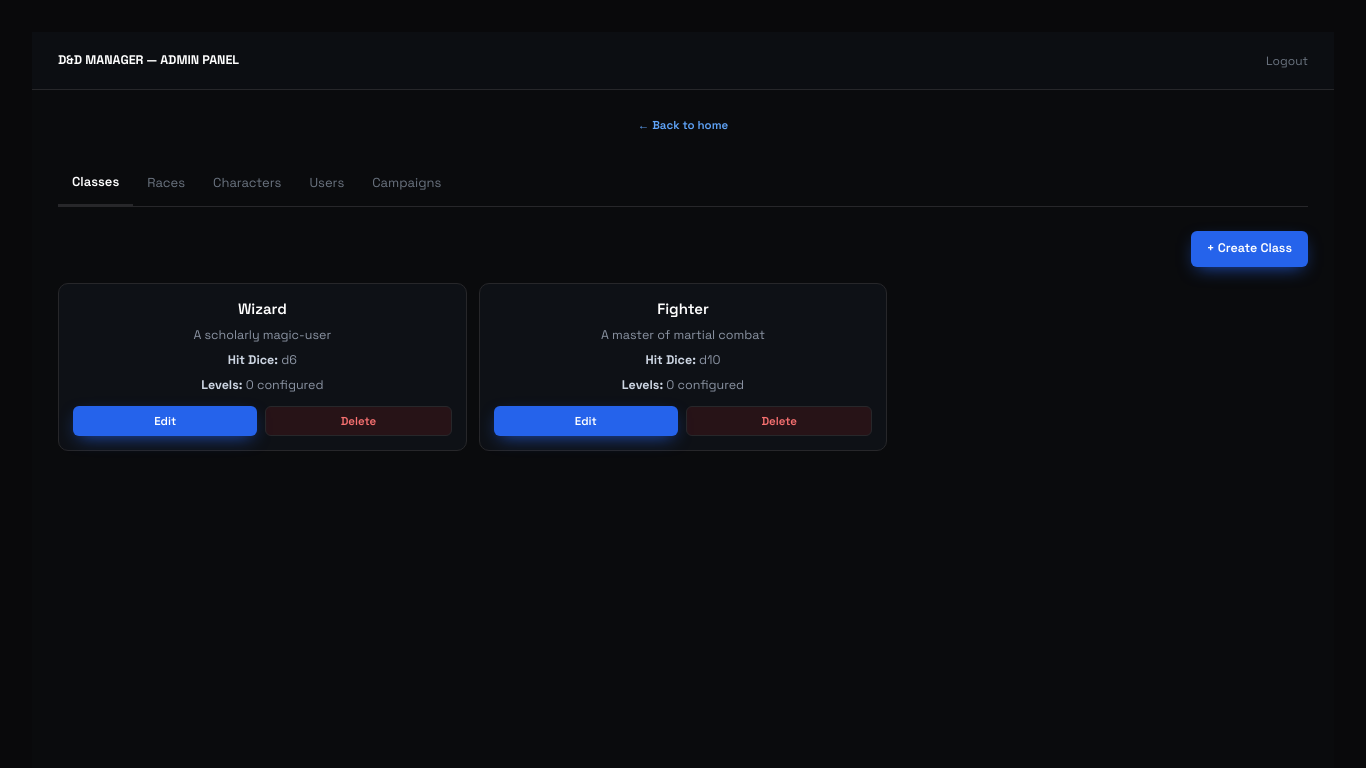
AdminPanel — Users CRUD › opens edit modal with prefilled username and email
This screenshot has width=1366, height=768.
Click the tab "Users" at {"x": 327, "y": 183}, box [295, 161, 358, 204]
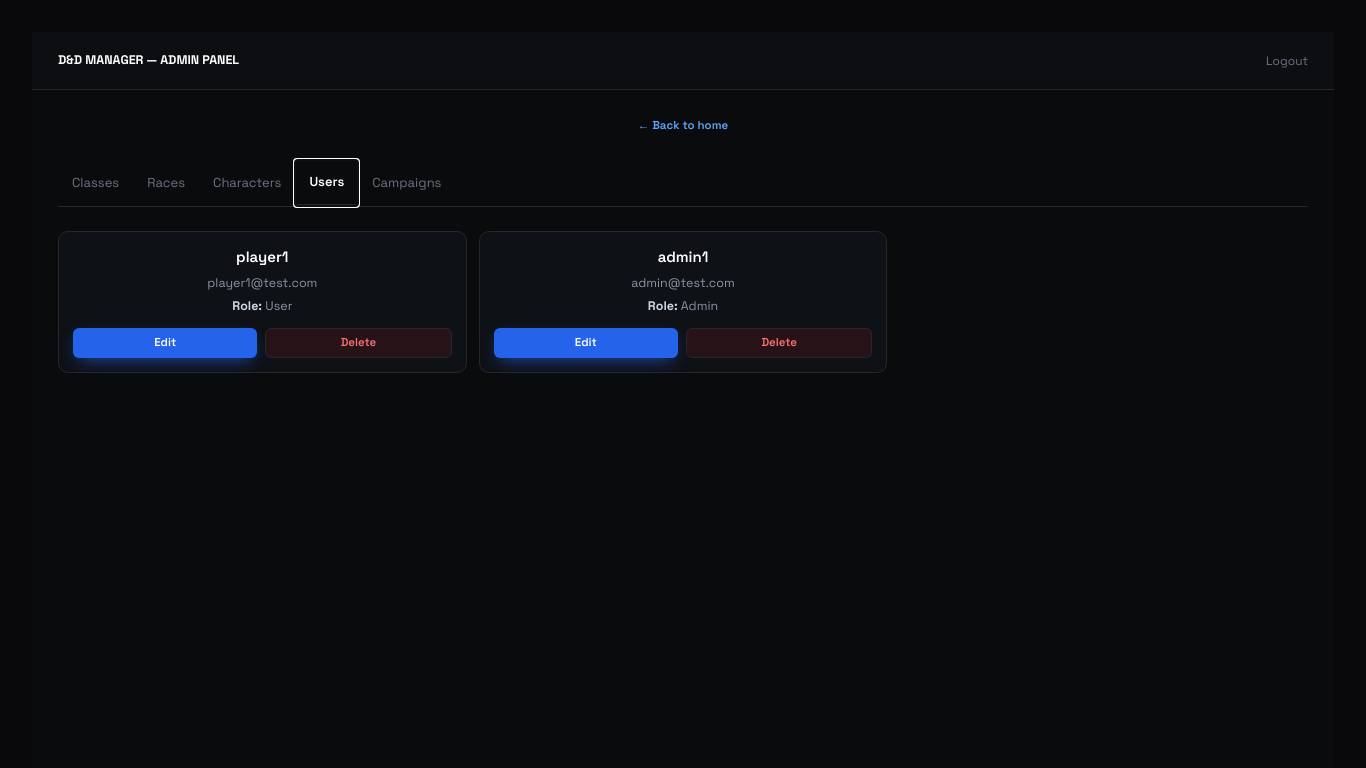
Click the button "Edit" below "player1@test.com" at {"x": 165, "y": 342}, box [73, 328, 257, 358]
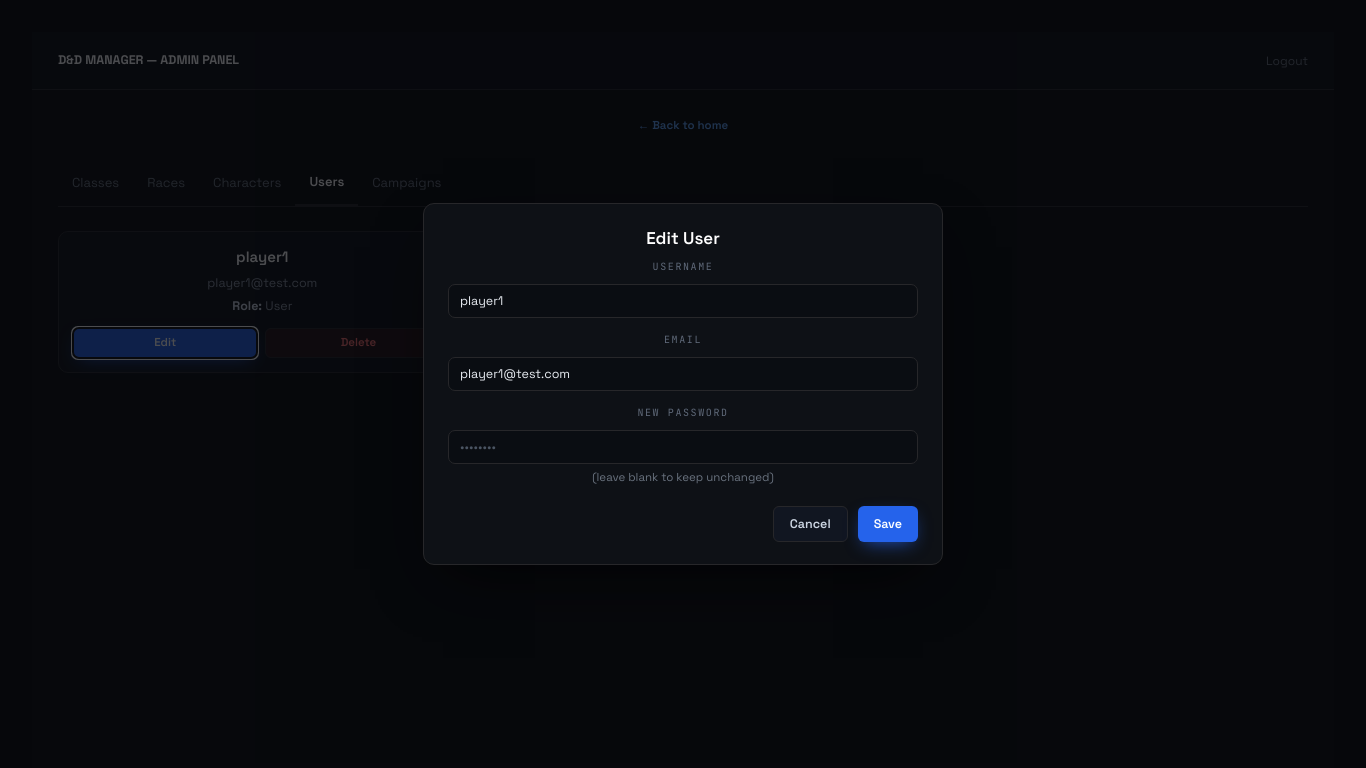
Check: the field showing "player1" is shown, box [448, 284, 918, 318]
Check: the field showing "player1@test.com" is shown, box [448, 357, 918, 391]
